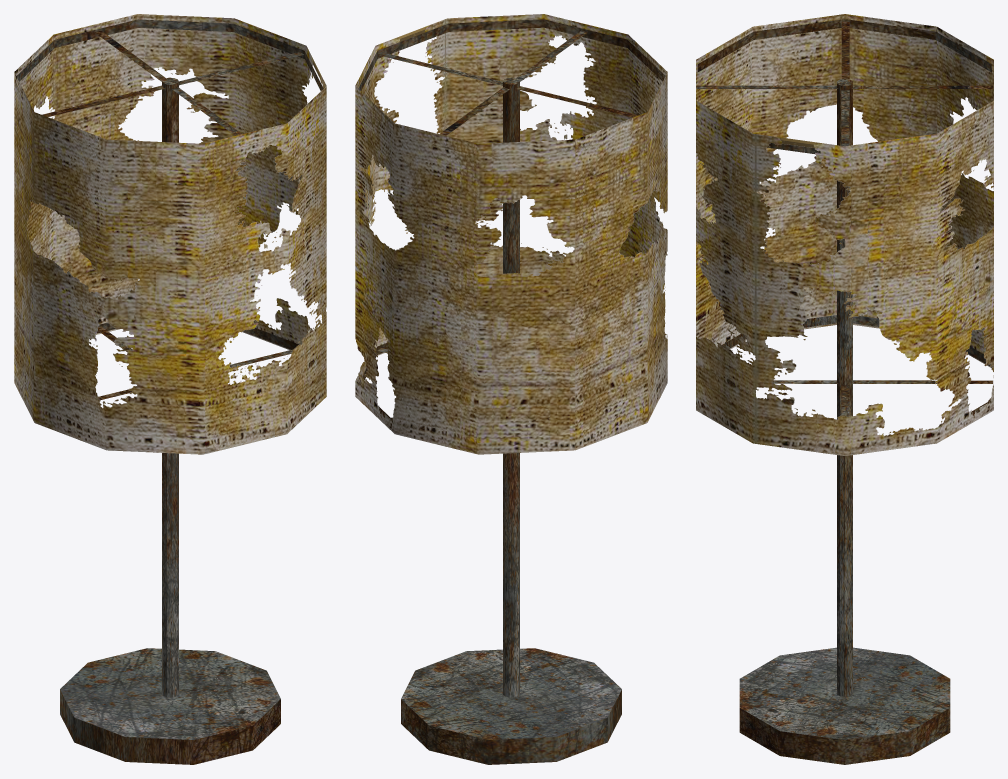
File: table lamp.FBX
3 renders of one model, left to right at view 1: azimuth 30°, elevation 25°; view 2: azimuth 150°, elevation 25°; view 3: azimuth 270°, elevation 25°, orthographic.
Parts seen in each view (by area): view 1: Cylinder002, Cylinder001, Cylinder003; view 2: Cylinder002, Cylinder001, Cylinder003; view 3: Cylinder002, Cylinder001, Cylinder003, Cylinder004.
Part boxes in pixels (left/top/right/bottom): Cylinder002: left=14, top=14, right=326, bottom=454; Cylinder001: left=60, top=77, right=280, bottom=764; Cylinder003: left=16, top=19, right=323, bottom=399; Cylinder002: left=355, top=14, right=667, bottom=454; Cylinder001: left=401, top=77, right=621, bottom=764; Cylinder003: left=358, top=19, right=665, bottom=352; Cylinder002: left=696, top=14, right=993, bottom=455; Cylinder001: left=739, top=79, right=950, bottom=764; Cylinder003: left=696, top=19, right=992, bottom=416; Cylinder004: left=721, top=315, right=991, bottom=415.
Size of the model in its own units: 20.19 by 45.4 by 19.2.
Materials: 1 (1 with a texture image).
